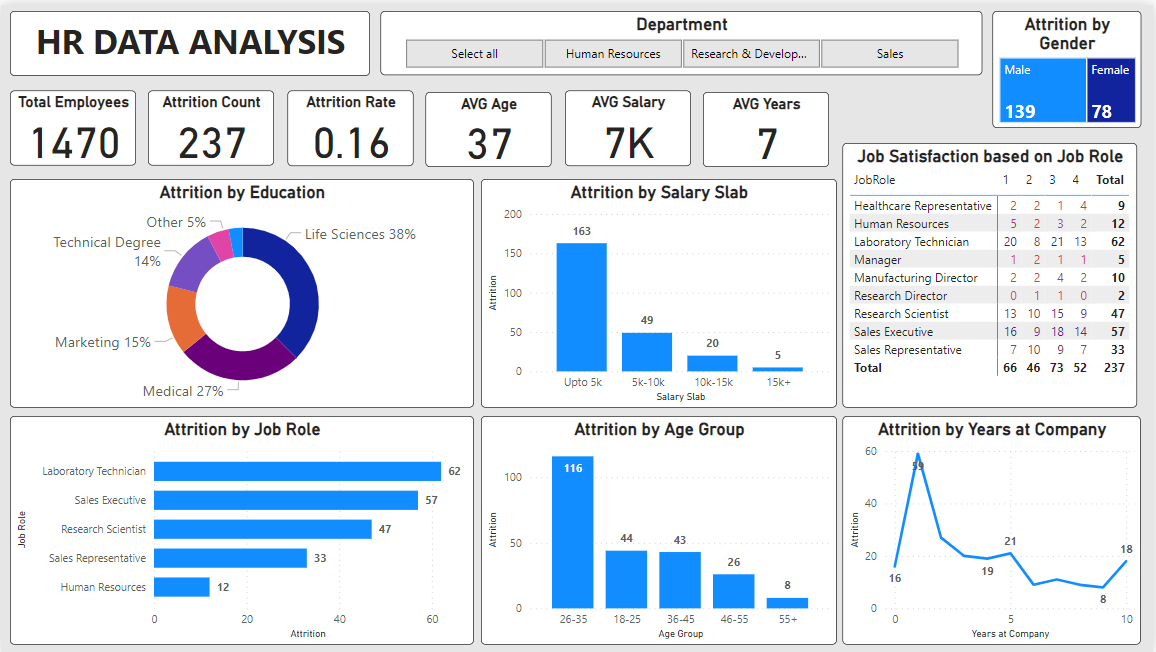

This screenshot's page, from the dashboard's own definition file:
{"tool":"powerbi","page":{"name":"Page 1","canvas":[1280,720],"ordinal":0},"visuals":[{"type":"card","title":"Total Employees","fields":{"Values":["CountNonNull(HR_Analytics.EmpID)"]},"box":[10,95.4,140,83.1],"z":0},{"type":"card","title":"Attrition Count","fields":{"Values":["Sum(HR_Analytics.AttritionCount)"]},"box":[163,95,140,83],"z":1000},{"type":"card","title":"Attrition Rate","fields":{"Values":["HR_Analytics.AttritionRate"]},"box":[318,95,140,84],"z":2000},{"type":"card","title":"AVG Age","fields":{"Values":["Avg(HR_Analytics.Age)"]},"box":[472,96,140,83],"z":3000},{"type":"card","title":"AVG Salary","fields":{"Values":["Avg(HR_Analytics.MonthlyIncome)"]},"box":[627,95,140,84],"z":4000},{"type":"card","title":"AVG Years ","fields":{"Values":["Avg(HR_Analytics.YearsAtCompany)"]},"box":[780,96,140,83],"z":5000},{"type":"donutChart","title":"Attrition by Education","fields":{"Category":["HR_Analytics.EducationField"],"Y":["Sum(HR_Analytics.AttritionCount)"]},"box":[10,192.5,515,253.8],"z":6000},{"type":"columnChart","title":"Attrition by Age Group","fields":{"Y":["Sum(HR_Analytics.AttritionCount)"],"Category":["HR_Analytics.AgeGroup"]},"box":[533.8,456.2,395,253.8],"z":7000},{"type":"pivotTable","title":"Job Satisfaction based on Job Role","fields":{"Rows":["HR_Analytics.JobRole"],"Columns":["HR_Analytics.JobSatisfaction"],"Values":["Sum(HR_Analytics.AttritionCount)"]},"box":[935,152.5,327.5,293.8],"z":8000},{"type":"columnChart","title":"Attrition by Salary Slab","fields":{"Y":["Sum(HR_Analytics.AttritionCount)"],"Category":["HR_Analytics.SalarySlab"]},"box":[533.8,192.5,395,253.8],"z":9000},{"type":"clusteredBarChart","title":"Attrition by Job Role","fields":{"Y":["Sum(HR_Analytics.AttritionCount)"],"Category":["HR_Analytics.JobRole"]},"box":[10,456.2,515,253.8],"z":10000},{"type":"lineChart","title":"Attrition by Years at Company","fields":{"Category":["HR_Analytics.YearsAtCompany"],"Y":["Sum(HR_Analytics.AttritionCount)"]},"box":[935,456.2,331.2,253.8],"z":11000},{"type":"treemap","title":"Attrition by Gender","fields":{"Group":["HR_Analytics.Gender"],"Values":["Sum(HR_Analytics.AttritionCount)"]},"box":[1101.2,6.2,165,130],"z":12000},{"type":"slicer","title":"Department","fields":{"Values":["HR_Analytics.Department"]},"box":[421.2,6.2,668.8,71.2],"z":13000},{"type":"textbox","box":[10,6,400,72],"z":14000}]}

Visuals, with their boxes in screenshot pixels (x1, y1, x2, y2), scaled from the page's 1280x720 canvas onto the 1156x652 screenshot:
"Total Employees" card: locate(9, 86, 135, 162)
"Attrition Count" card: locate(147, 86, 274, 161)
"Attrition Rate" card: locate(287, 86, 414, 162)
"AVG Age" card: locate(426, 87, 553, 162)
"AVG Salary" card: locate(566, 86, 693, 162)
"AVG Years " card: locate(704, 87, 831, 162)
"Attrition by Education" donutChart: locate(9, 174, 474, 404)
"Attrition by Age Group" columnChart: locate(482, 413, 839, 643)
"Job Satisfaction based on Job Role" pivotTable: locate(844, 138, 1140, 404)
"Attrition by Salary Slab" columnChart: locate(482, 174, 839, 404)
"Attrition by Job Role" clusteredBarChart: locate(9, 413, 474, 643)
"Attrition by Years at Company" lineChart: locate(844, 413, 1144, 643)
"Attrition by Gender" treemap: locate(995, 6, 1144, 123)
"Department" slicer: locate(380, 6, 984, 70)
textbox: locate(9, 5, 370, 71)
